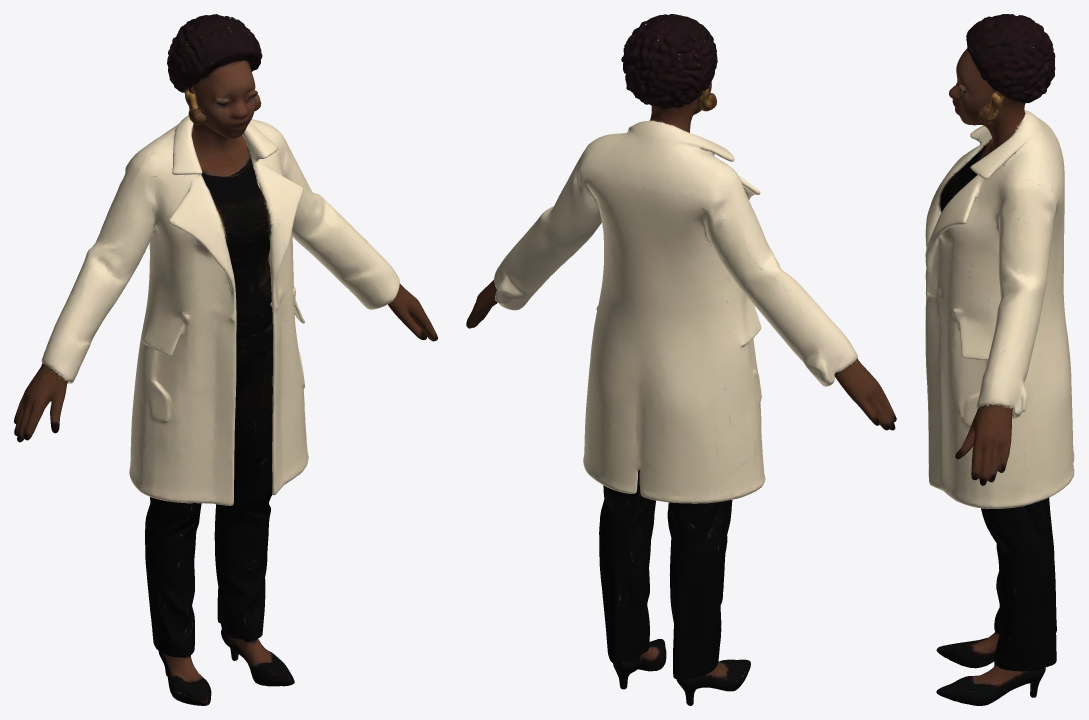
Rendered from afi.glb.
3 views of the same model, side by side, from view 1: azimuth 30°, elevation 25°; view 2: azimuth 150°, elevation 25°; view 3: azimuth 270°, elevation 25° (orthographic).
Visible parts, largest first — view 1: world; view 2: world; view 3: world.
Boxes of the visible parts, x1,y1,x2,y2 form: world: (14,14,437,705); world: (466,14,896,705); world: (925,14,1074,705).
Size of the model in its own units: 0.6676 by 1 by 0.2044.
1 material, 1 textured.
